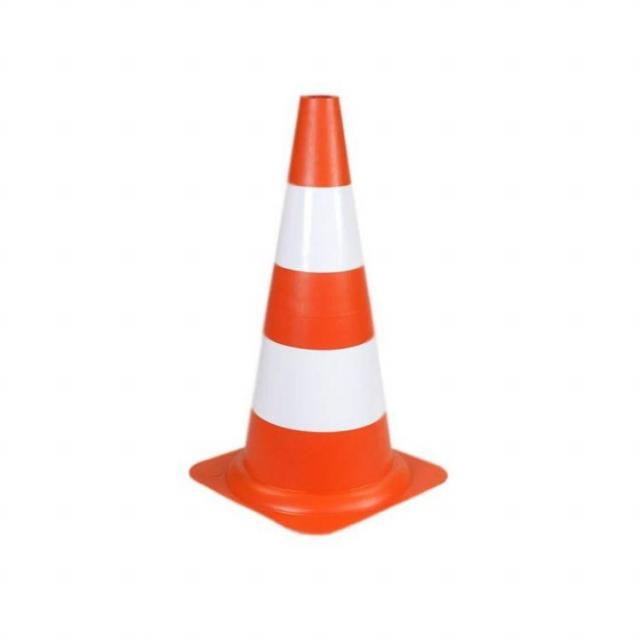cone: (182, 90, 449, 520)
